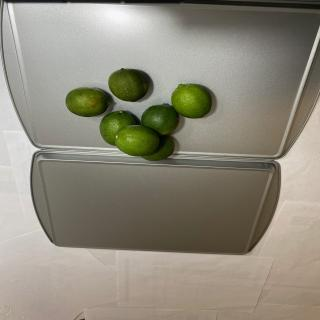Chilli: (65, 67, 213, 161)
Lemon: (171, 83, 212, 119), (114, 125, 160, 157), (65, 86, 110, 118), (108, 68, 148, 102), (100, 110, 136, 146), (141, 103, 180, 136), (140, 136, 175, 162)
